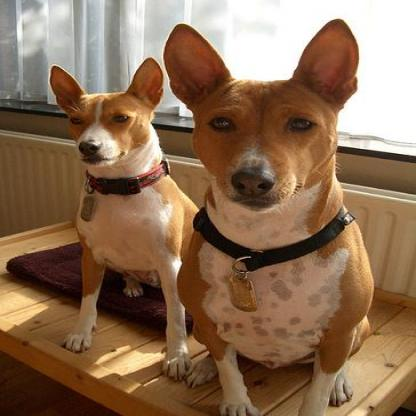basenji: (156, 18, 372, 414), (46, 55, 201, 384)
